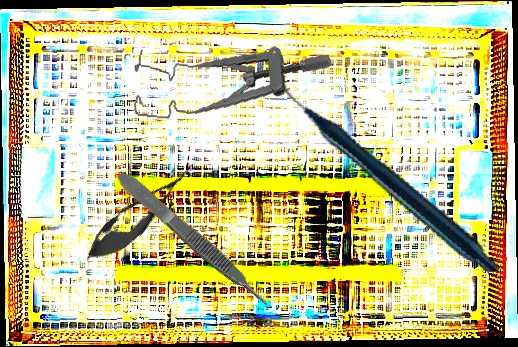Handpiece: (280, 37, 501, 309)
Micro Scissor: (75, 151, 207, 274)
Speculum: (129, 32, 332, 136)
Tissue Forceps: (113, 166, 274, 314)
